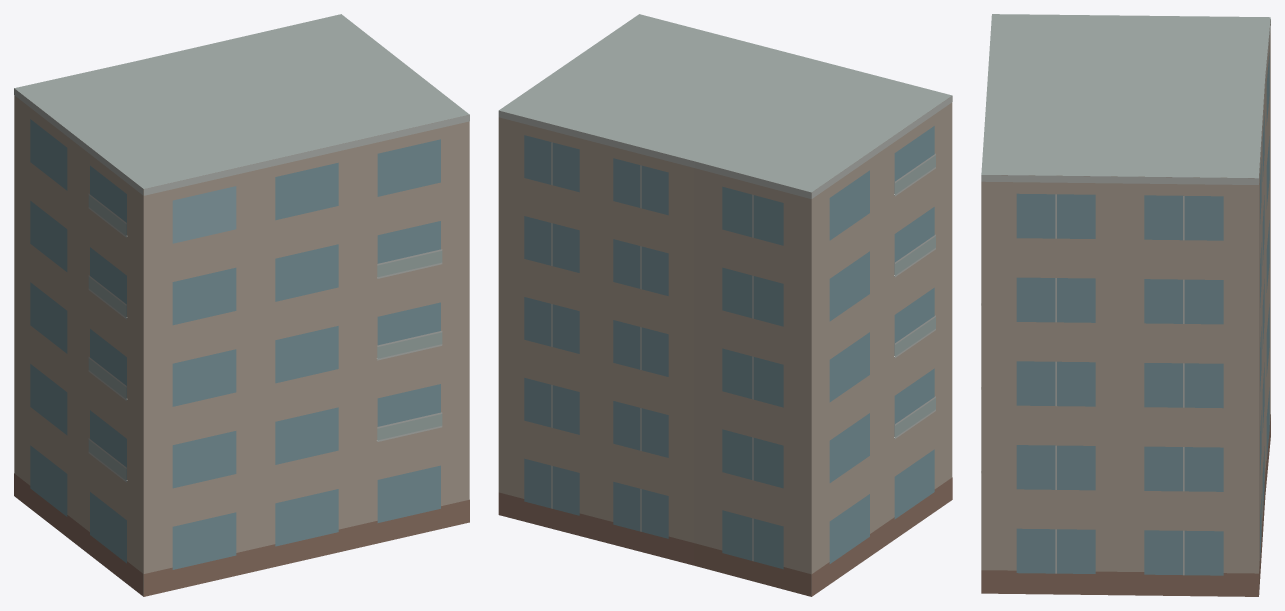
The model's file is survey-upis-32838827.glb.
3 views of the same model, side by side, from view 1: azimuth 30°, elevation 25°; view 2: azimuth 150°, elevation 25°; view 3: azimuth 270°, elevation 25° (orthographic). The views are drawn at different scales.
Parts seen in each view (by area): view 1: survey-upis-32838827.tmp; view 2: survey-upis-32838827.tmp; view 3: survey-upis-32838827.tmp.
Boxes of the visible parts, <box> form: survey-upis-32838827.tmp: <box>14,14,469,596</box>; survey-upis-32838827.tmp: <box>498,14,952,596</box>; survey-upis-32838827.tmp: <box>981,14,1270,596</box>.
Bounding box in the file's own units: 12.33 × 14.65 × 9.2.
